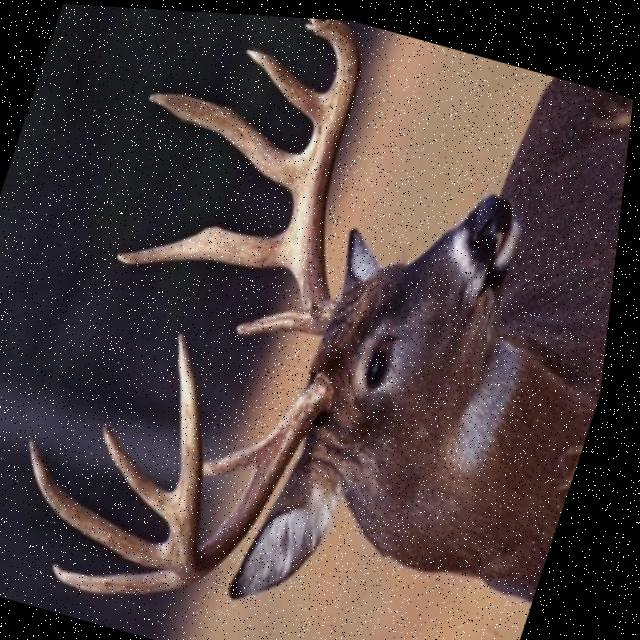L-F: (176, 326, 336, 579)
L-G1: (212, 432, 276, 473)
L-G2: (63, 561, 201, 594)
L-G3: (36, 435, 177, 564)
L-G4: (111, 420, 184, 521)
R-F: (299, 14, 362, 330)
R-G1: (241, 304, 314, 332)
R-G2: (119, 223, 292, 265)
R-G3: (148, 90, 306, 187)
R-G4: (245, 44, 332, 124)
